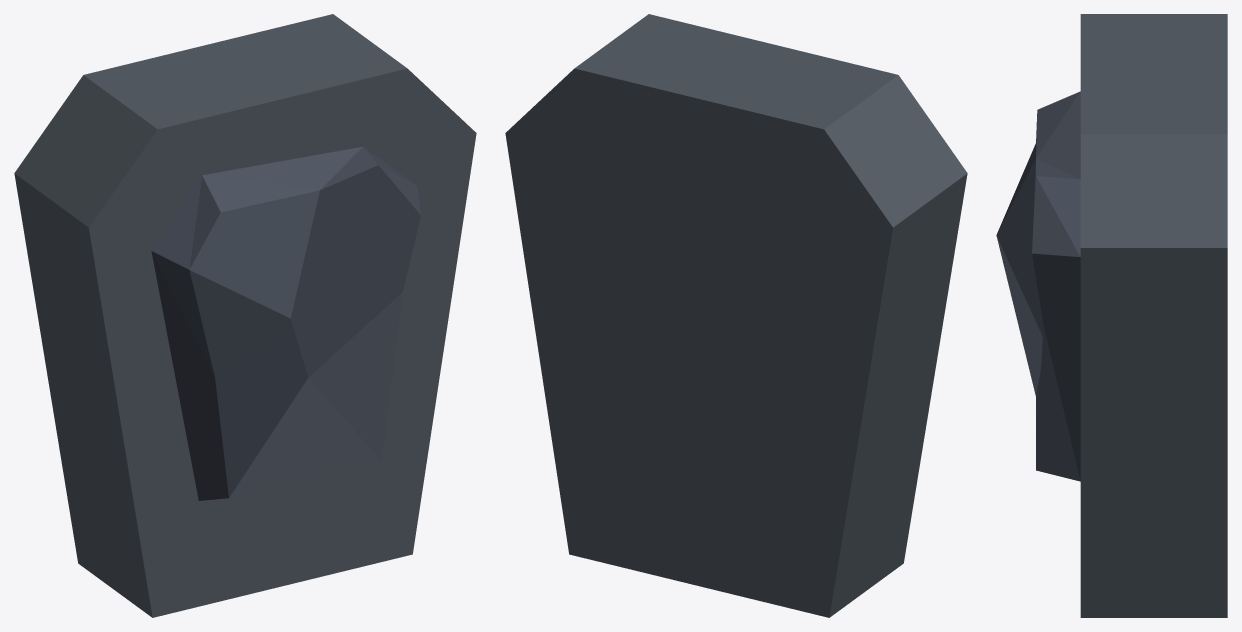
File: tomb_stone_01.fbx
The picture shows the model from 3 angles, left to right: view 1: azimuth 30°, elevation 25°; view 2: azimuth 150°, elevation 25°; view 3: azimuth 270°, elevation 25°; orthographic projection.
Visible parts, largest first — view 1: tomb_stone_01; view 2: tomb_stone_01; view 3: tomb_stone_01.
Part boxes in pixels (x1,y1,x2,y2): tomb_stone_01: [14, 14, 476, 617]; tomb_stone_01: [505, 14, 967, 617]; tomb_stone_01: [996, 14, 1227, 617].
Bounding box in the file's own units: 2 × 2.4 × 1.05.
